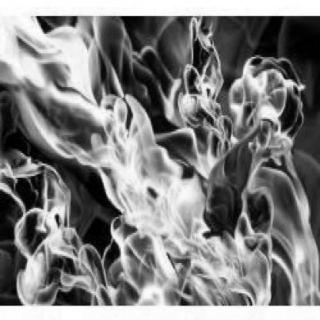Fire: (0, 22, 318, 310)
